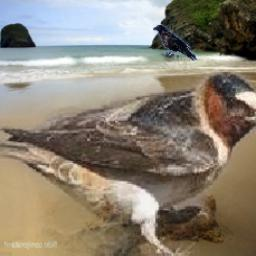Crow: (153, 24, 198, 62)
Swallow: (0, 72, 256, 256)
